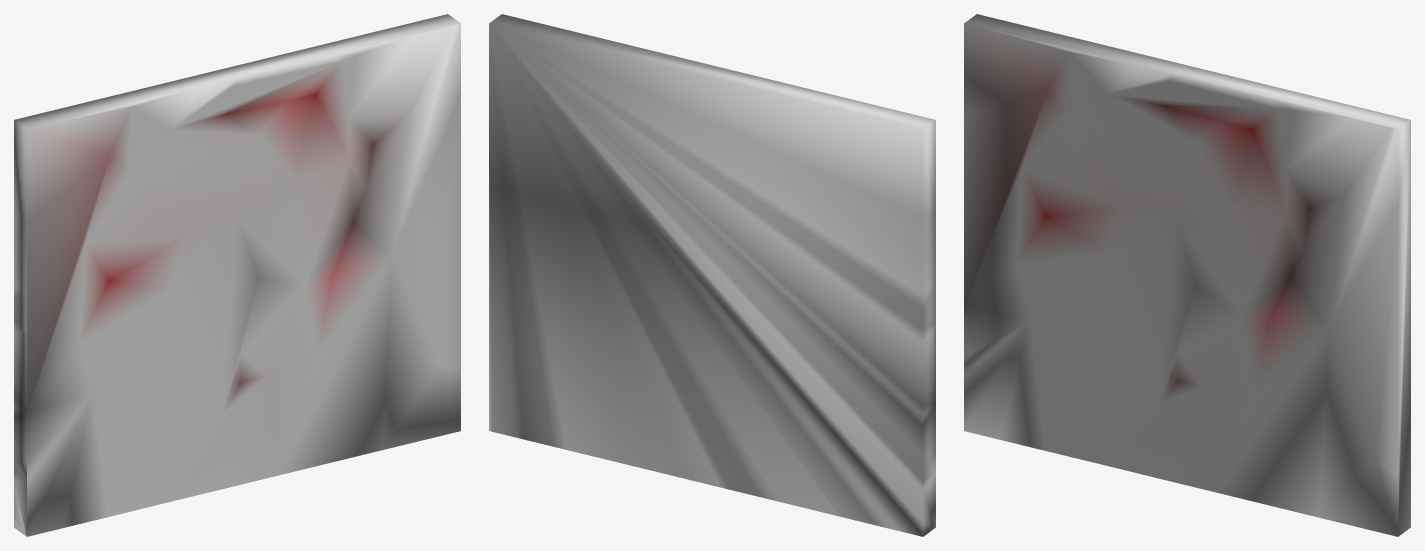
File: SM_FA_Factory_W390_H350.fbx
The picture shows the model from 3 angles, left to right: view 1: azimuth 30°, elevation 25°; view 2: azimuth 150°, elevation 25°; view 3: azimuth 330°, elevation 25°; orthographic projection.
Visible parts, largest first — view 1: SM_FA_Factory_W390_H350; view 2: SM_FA_Factory_W390_H350; view 3: SM_FA_Factory_W390_H350.
Boxes of the visible parts, bbox=[...] form: SM_FA_Factory_W390_H350: bbox=[14, 14, 460, 536]; SM_FA_Factory_W390_H350: bbox=[489, 14, 935, 536]; SM_FA_Factory_W390_H350: bbox=[964, 14, 1410, 536].
Bounding box in the file's own units: 390 × 20 × 350.
